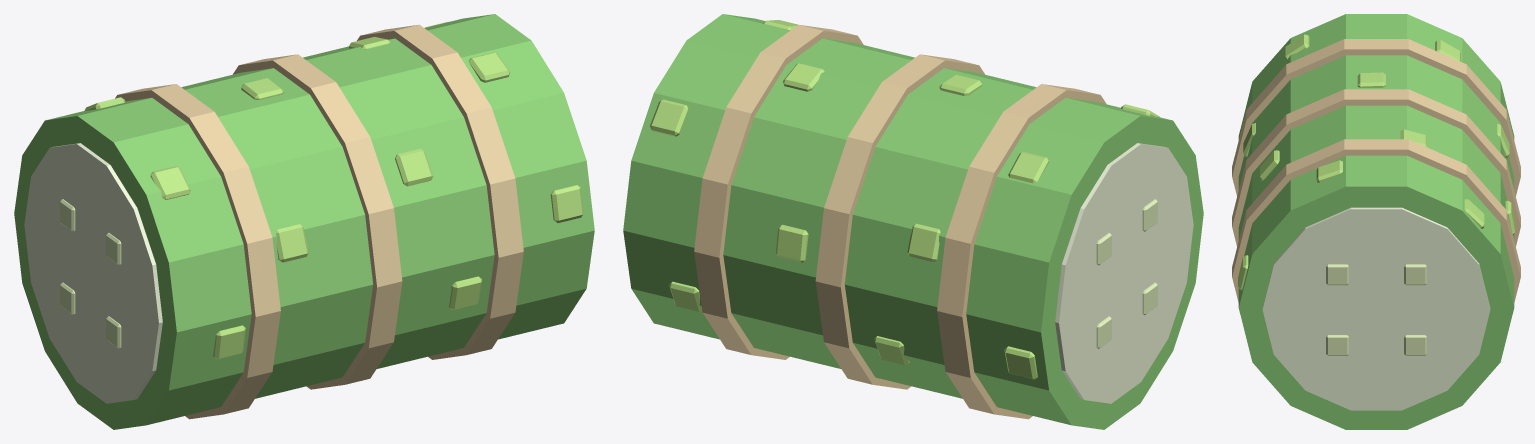
The model's file is FarmHayBale.fbx.
3 renders of one model, left to right at view 1: azimuth 30°, elevation 25°; view 2: azimuth 150°, elevation 25°; view 3: azimuth 270°, elevation 25°, orthographic. The views are drawn at different scales.
Parts seen in each view (by area): view 1: FarmHayBale.Body, FarmHayBale.Bands, FarmHayBale.Faces, FarmHayBale.Studs, FarmHayBale.Seeds; view 2: FarmHayBale.Body, FarmHayBale.Bands, FarmHayBale.Faces, FarmHayBale.Studs, FarmHayBale.Seeds; view 3: FarmHayBale.Body, FarmHayBale.Faces, FarmHayBale.Bands, FarmHayBale.Studs, FarmHayBale.Seeds.
Boxes of the visible parts, x1=… form: FarmHayBale.Body: x1=14, y1=14, x2=594, y2=429; FarmHayBale.Bands: x1=115, y1=24, x2=523, y2=419; FarmHayBale.Faces: x1=24, y1=143, x2=162, y2=403; FarmHayBale.Studs: x1=84, y1=21, x2=583, y2=359; FarmHayBale.Seeds: x1=60, y1=199, x2=121, y2=348; FarmHayBale.Body: x1=623, y1=14, x2=1203, y2=429; FarmHayBale.Bands: x1=694, y1=24, x2=1106, y2=419; FarmHayBale.Faces: x1=1055, y1=143, x2=1193, y2=403; FarmHayBale.Studs: x1=650, y1=20, x2=1159, y2=379; FarmHayBale.Seeds: x1=1096, y1=199, x2=1157, y2=348; FarmHayBale.Body: x1=1238, y1=14, x2=1514, y2=429; FarmHayBale.Faces: x1=1262, y1=207, x2=1490, y2=410; FarmHayBale.Bands: x1=1232, y1=39, x2=1520, y2=302; FarmHayBale.Studs: x1=1238, y1=34, x2=1515, y2=290; FarmHayBale.Seeds: x1=1326, y1=264, x2=1426, y2=355.
Bounding box in the file's own units: 4.44 × 2.96 × 3.04.
